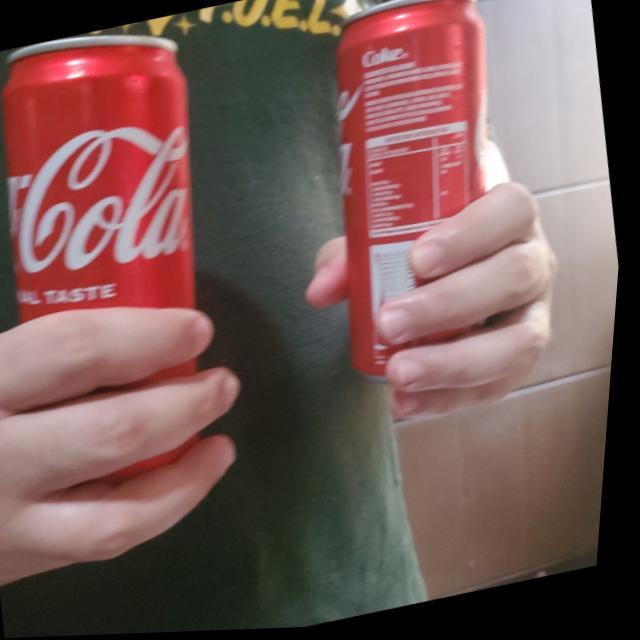coke: (0, 15, 257, 499), (292, 0, 548, 391)
